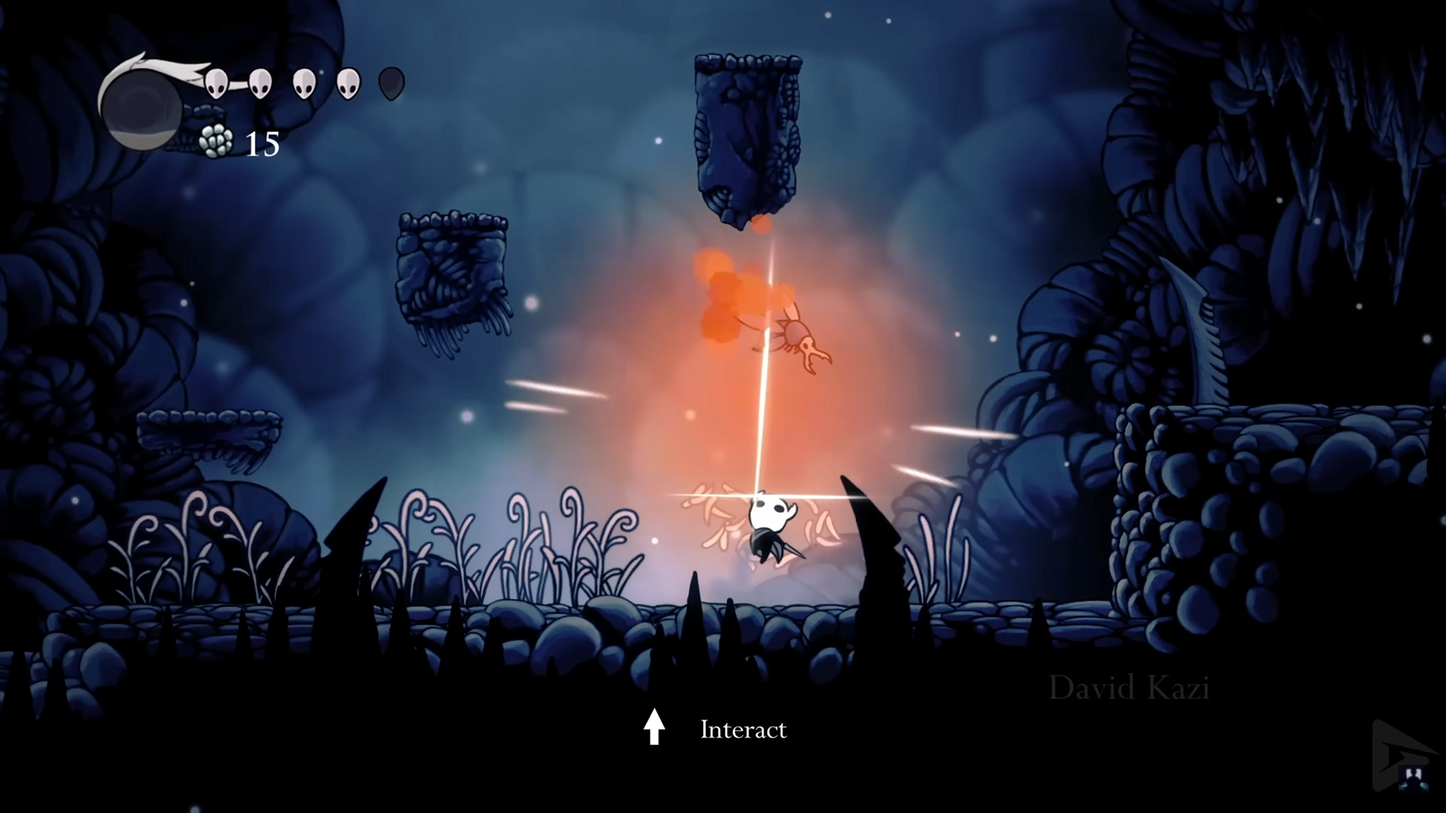HK: (742, 480, 800, 574)
